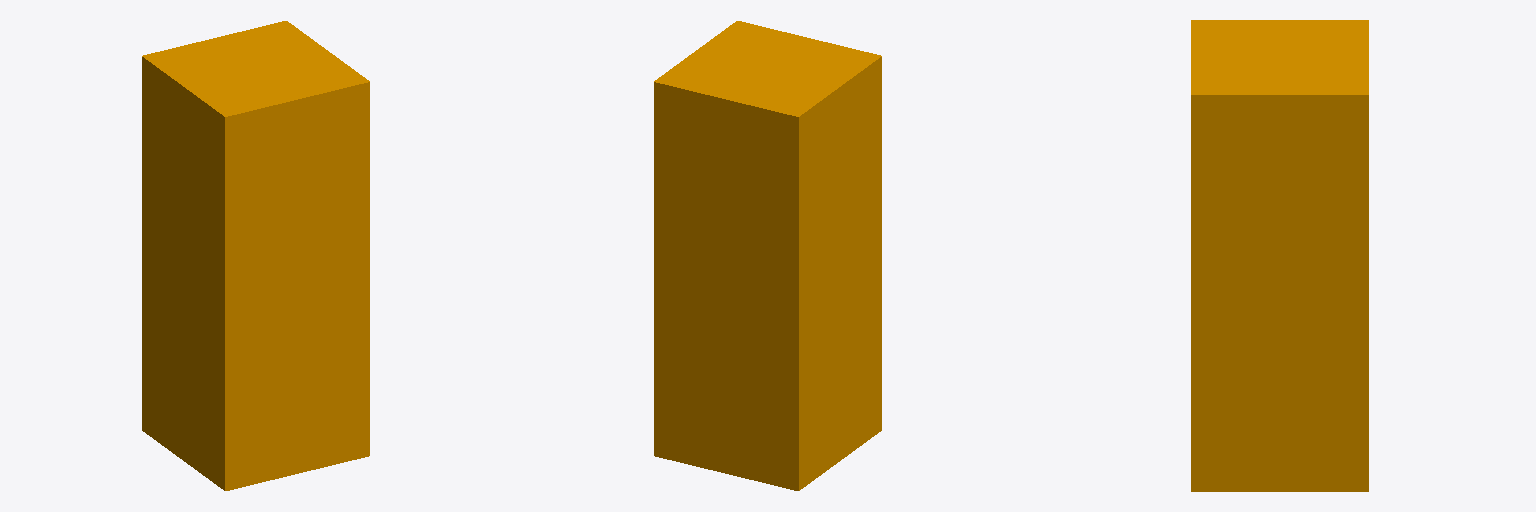
The robot description file, URDF, robot "2v2_mod_cuboid_small":
<?xml version="1.0" ?>
<robot name="2v2_mod_cuboid_small">

    <link name="2v2_mod_cuboid_small">
        <visual>
        <origin rpy="1.5707963267948966 0 0" xyz="0 0 0"/>
            <geometry>
                <mesh filename="obj_files/2v2_mod_cuboid_small.obj" scale="1 1 1"/>
            </geometry>
        </visual>
        <collision>
                <origin rpy="1.5707963267948966 0 0" xyz="0 0 0"/>
            <geometry>
                <mesh filename="obj_files/2v2_mod_cuboid_small_collision.obj" scale="1 1 1"/>
            </geometry>
        </collision>
    </link>

</robot>

--- Render facts (derived) ---
3 views of the same robot in one strip: view 1: azimuth 30°, elevation 25°; view 2: azimuth 150°, elevation 25°; view 3: azimuth 270°, elevation 25° (orthographic).
Model 2v2_mod_cuboid_small with 1 links and 0 joints (none), rooted at 2v2_mod_cuboid_small, posed all joints at 0.
Links seen in each view (by area): view 1: 2v2_mod_cuboid_small; view 2: 2v2_mod_cuboid_small; view 3: 2v2_mod_cuboid_small.
Link boxes in pixels (<box>): 2v2_mod_cuboid_small: <box>142,21,369,490</box>; 2v2_mod_cuboid_small: <box>654,21,881,490</box>; 2v2_mod_cuboid_small: <box>1191,20,1368,491</box>.
Bounding box of the posed robot: 0.039 × 0.039 × 0.096 m (x, y, z).
1 mesh visuals loaded from 1 distinct referenced files (1 OBJ).